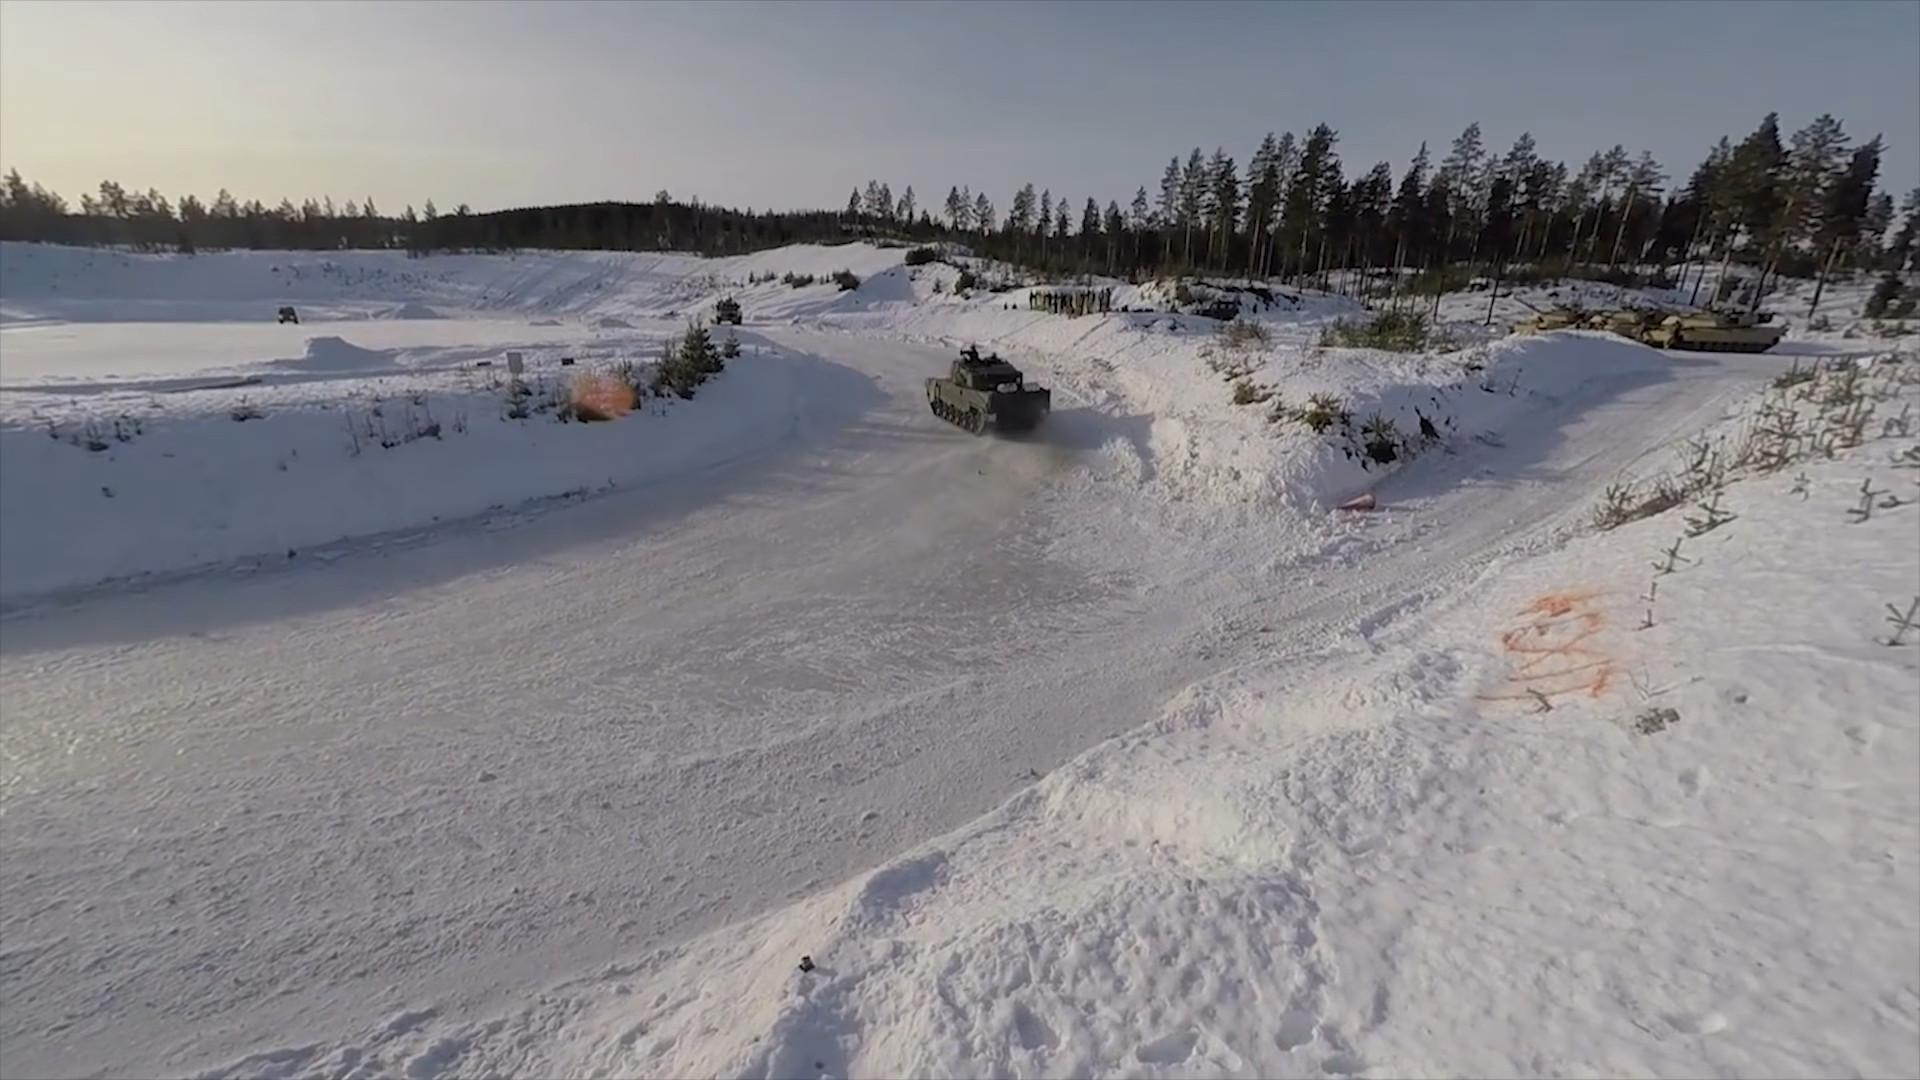tank: (923, 357, 1051, 435)
